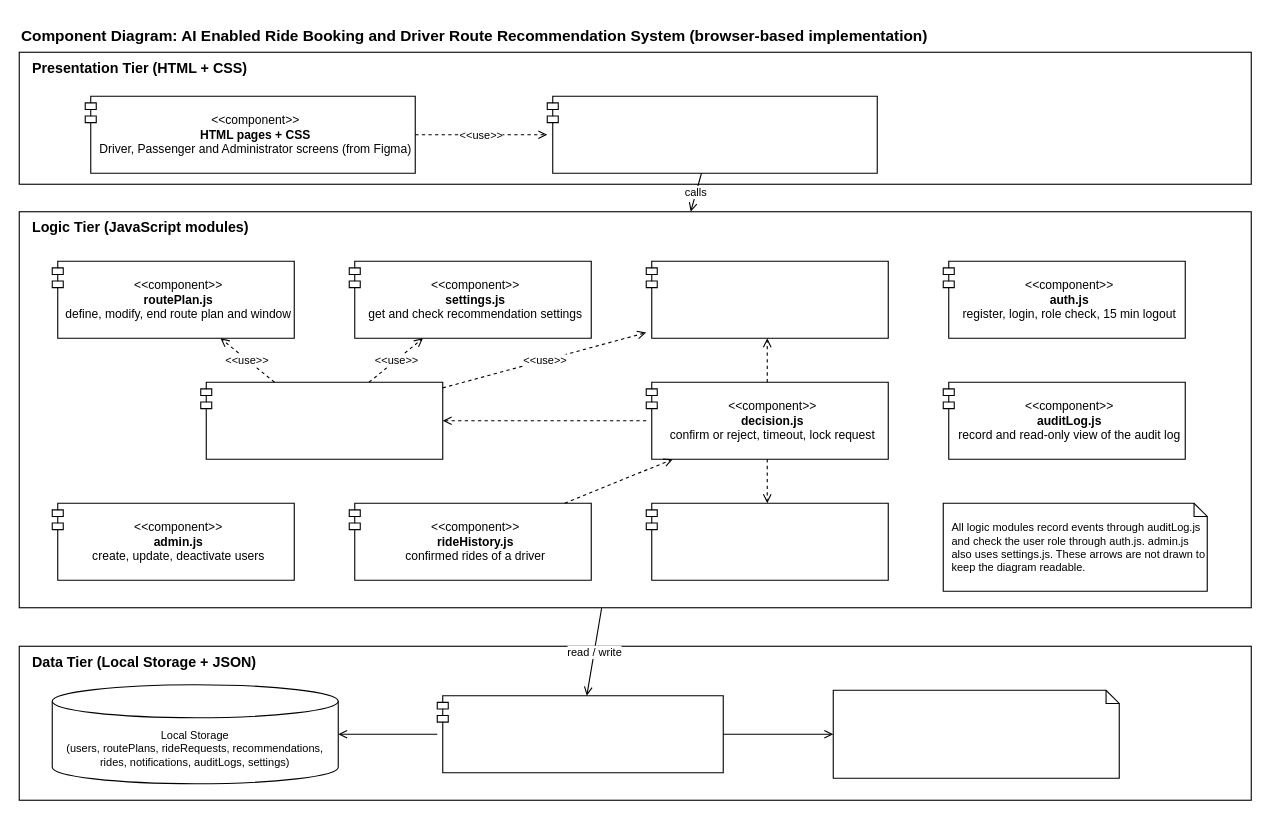
Image size: 1271x820. Some labels were removed from this diagram. The shapes that lost their labels are listed below. From the top down, each one's box as (x1, y1, x2, y2) in pixels, then its label:
(546, 95, 877, 173): <<component>> ui.js shows data, handles clicks with addEventListener
(645, 260, 888, 338): <<component>> rideRequest.js submit, validate, cancel, expire requests
(200, 381, 443, 459): <<component>> recommendationEngine.js filter, detour, fuel cost, profit, rank
(645, 502, 888, 580): <<component>> notification.js notify passenger and driver
(436, 695, 723, 773): <<component>> storage.js the only module that reads and writes data
(832, 689, 1119, 778): Mock JSON files data/locations.json data/distances.json
